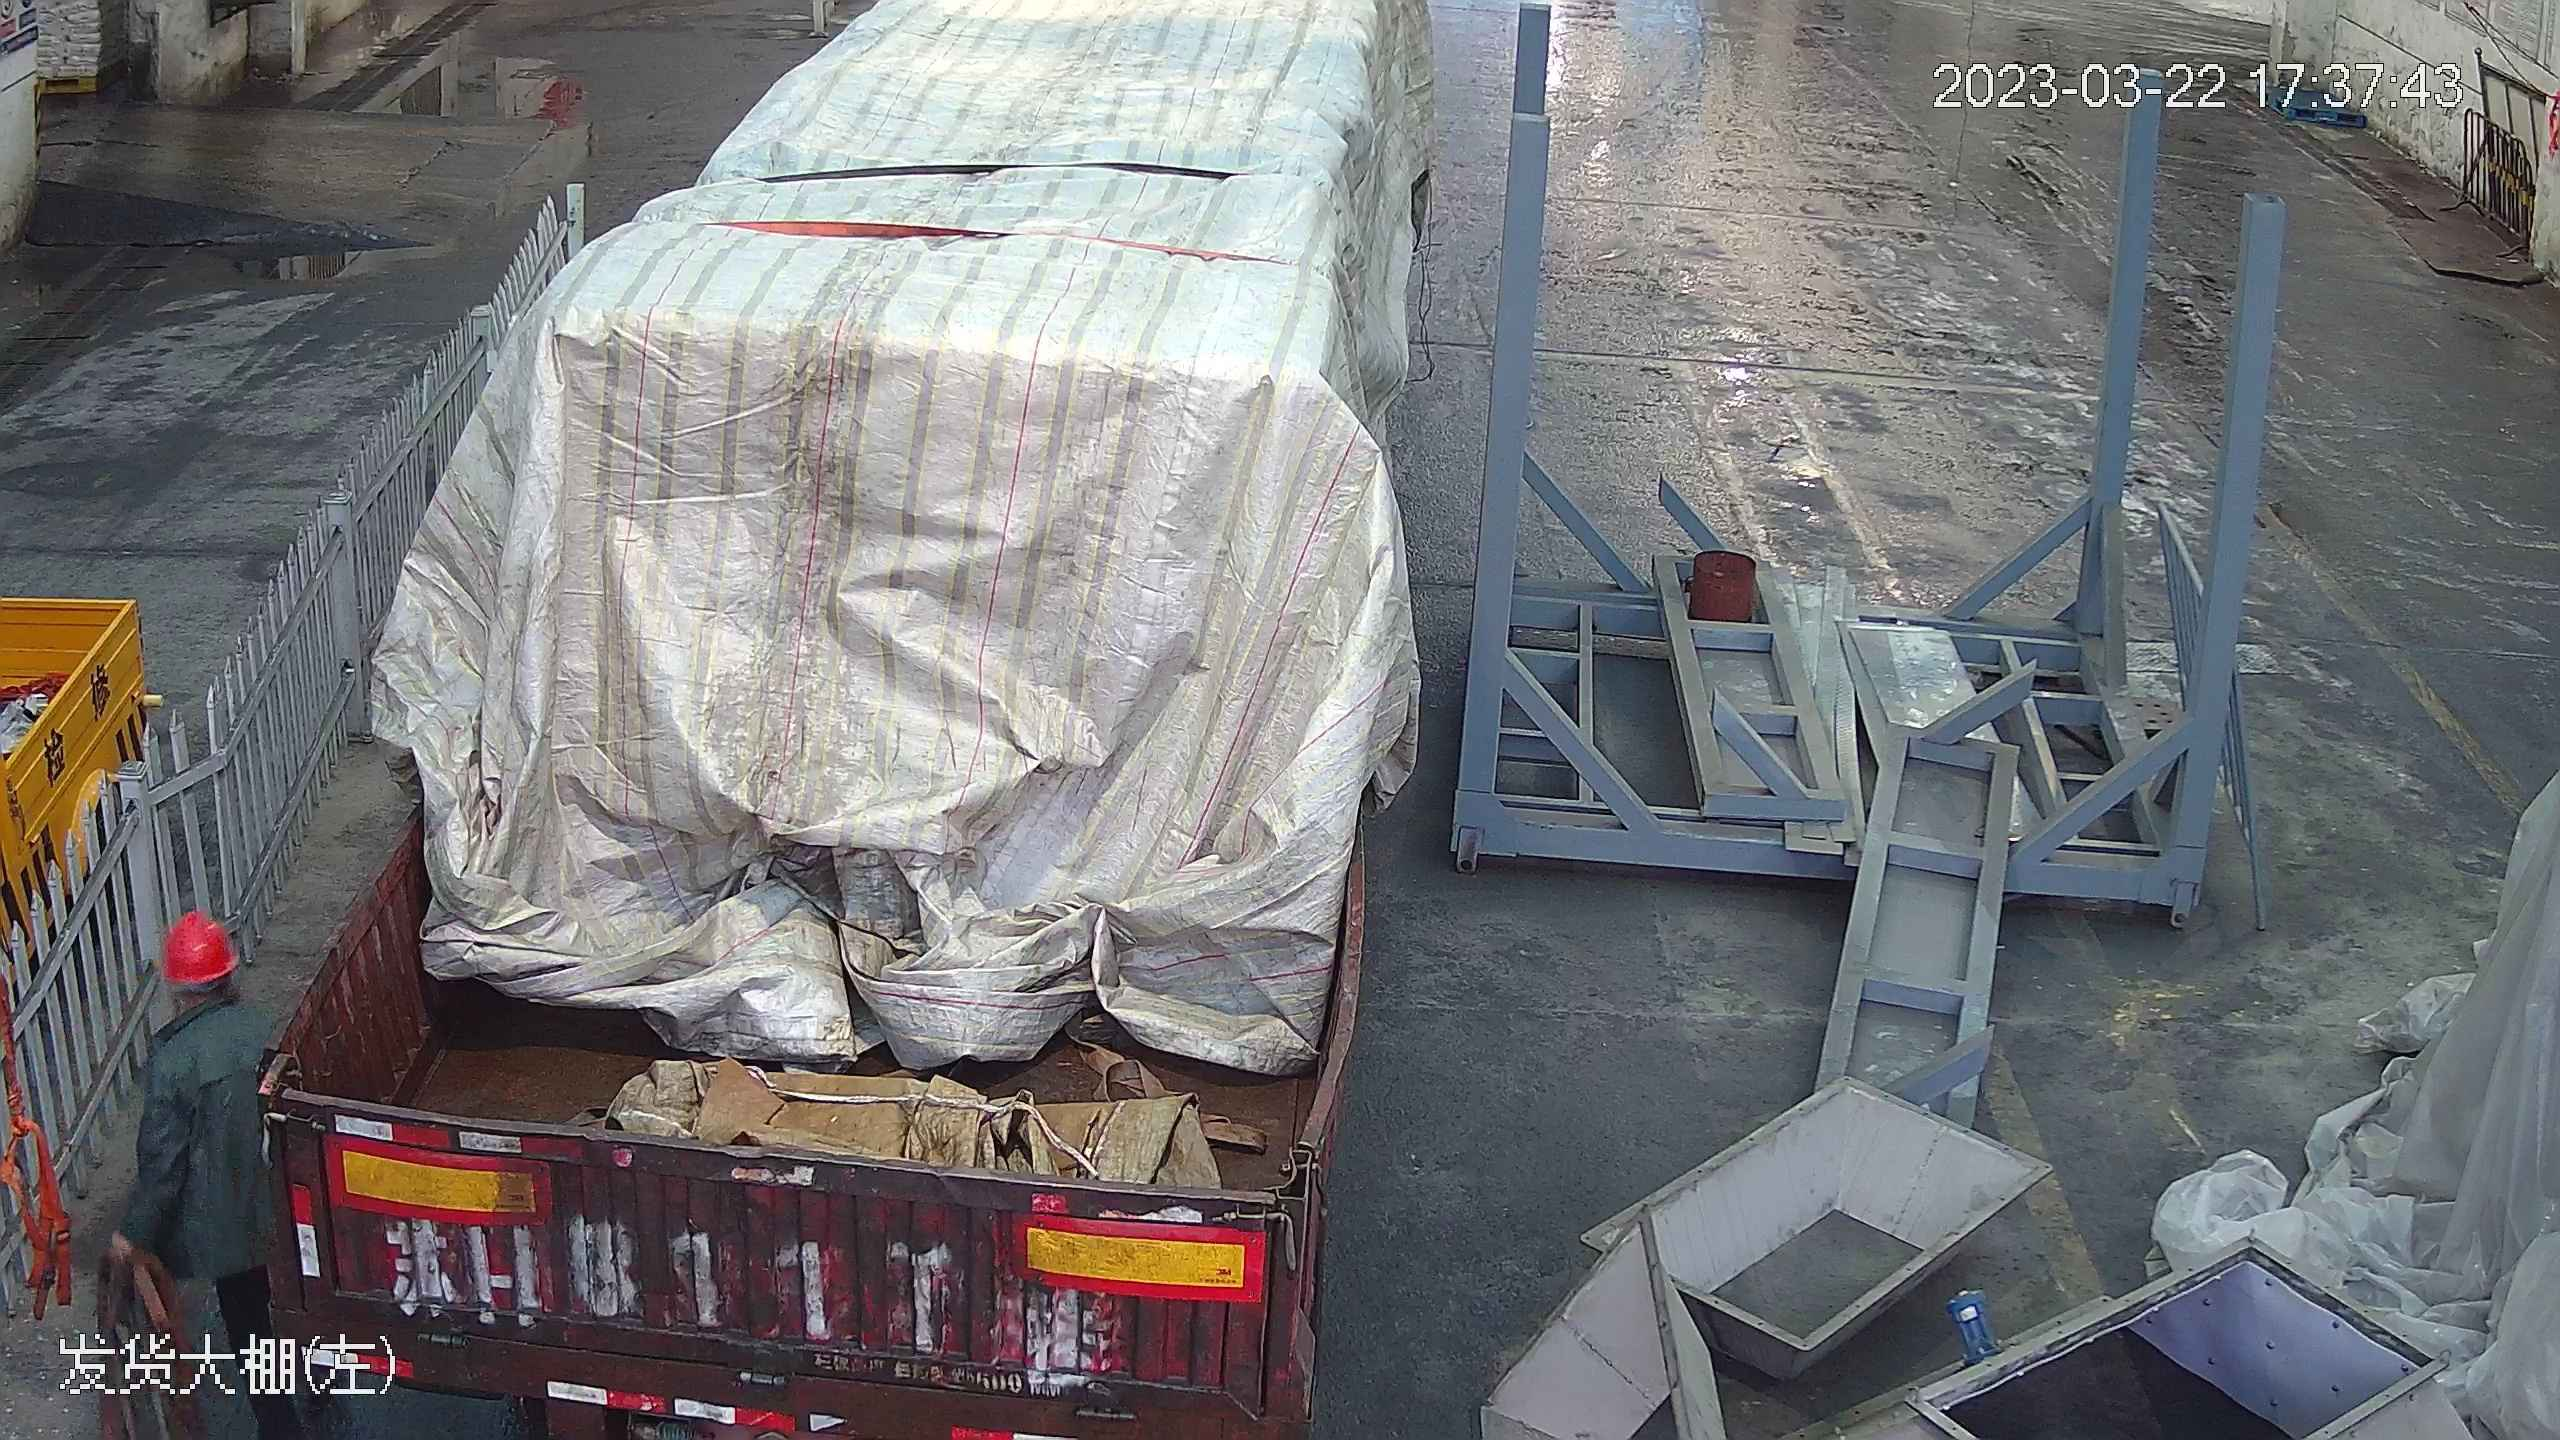head: (133, 909, 275, 1100)
helmet: (157, 909, 240, 985)
people: (111, 911, 288, 1414)
truck: (215, 1, 1448, 1440)
